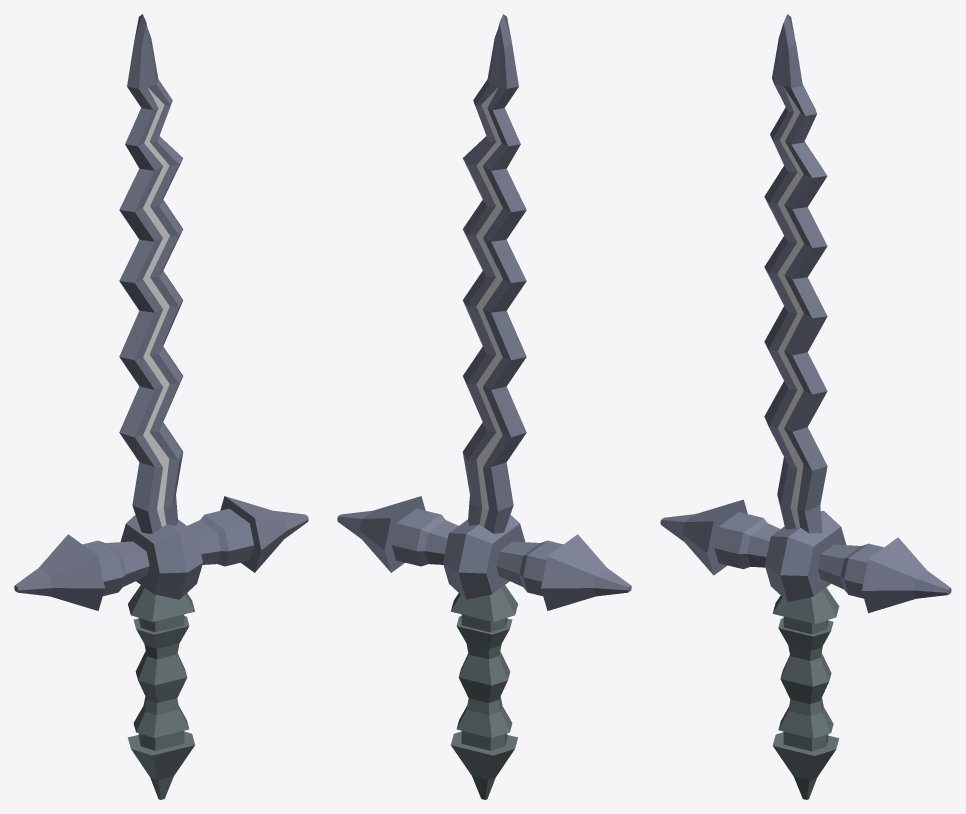
The model's file is enStick.fbx.
3 renders of one model, left to right at view 1: azimuth 30°, elevation 25°; view 2: azimuth 150°, elevation 25°; view 3: azimuth 330°, elevation 25°, orthographic.
Visible parts, largest first — view 1: Cube.001, Cube, Cube.002; view 2: Cube.001, Cube, Cube.002; view 3: Cube.001, Cube, Cube.002.
Boxes of the visible parts, x1,y1,x2,y2 form: Cube.001: (119, 14, 183, 533); Cube: (14, 496, 308, 610); Cube.002: (127, 585, 194, 799); Cube.001: (462, 14, 526, 533); Cube: (337, 496, 631, 610); Cube.002: (451, 585, 518, 799); Cube.001: (764, 14, 827, 533); Cube: (660, 499, 951, 613); Cube.002: (772, 587, 839, 799).
Bounding box in the file's own units: 782 × 2030 × 242.
